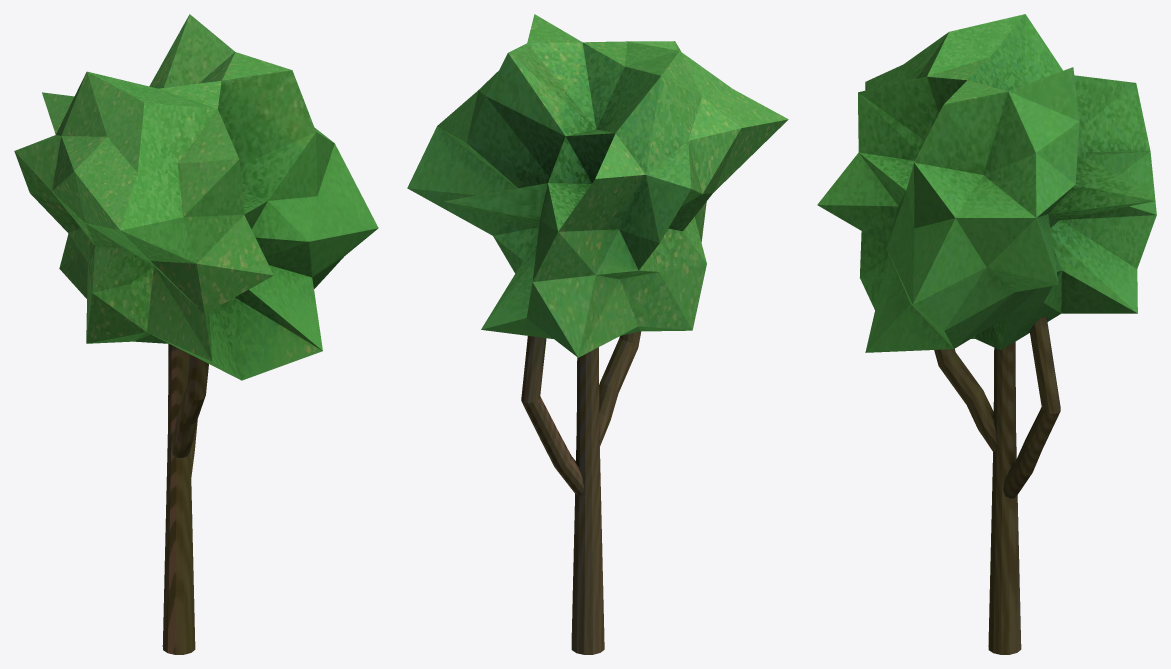
The model's file is tree.obj.
3 views of the same model, side by side, from view 1: azimuth 30°, elevation 25°; view 2: azimuth 150°, elevation 25°; view 3: azimuth 270°, elevation 25° (orthographic).
Parts seen in each view (by area): view 1: Cube.035_Cube.040; view 2: Cube.035_Cube.040; view 3: Cube.035_Cube.040.
Part boxes in pixels (box(x1,y1,x2,y2)): Cube.035_Cube.040: box(14, 14, 378, 654); Cube.035_Cube.040: box(407, 14, 788, 654); Cube.035_Cube.040: box(817, 14, 1156, 654).
Size of the model in its own units: 4.62 by 9.21 by 4.7.
1 material, 1 textured.
